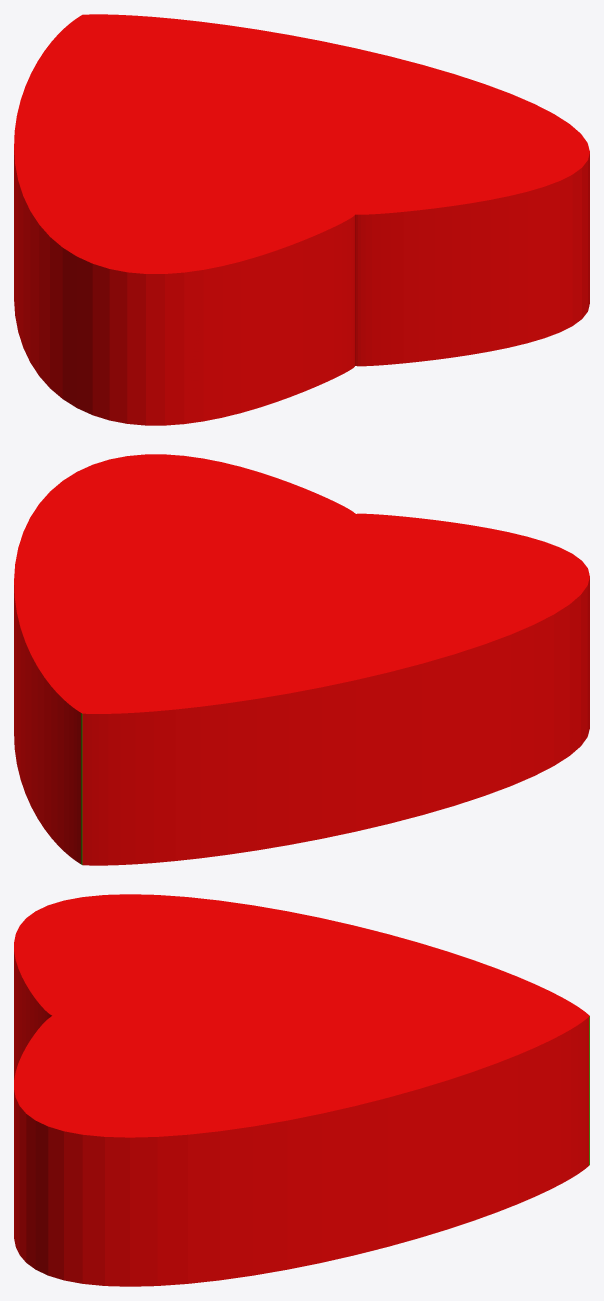
File: heart.dae
The picture shows the model from 3 angles, top to bottom: view 1: azimuth 30°, elevation 25°; view 2: azimuth 150°, elevation 25°; view 3: azimuth 270°, elevation 25°; orthographic projection.
Parts seen in each view (by area): view 1: Heart; view 2: Heart; view 3: Heart.
Part boxes in pixels (<box>): Heart: <box>14,14,589,425</box>; Heart: <box>14,454,589,865</box>; Heart: <box>14,894,589,1286</box>.
Size of the model in its own units: 0.07 by 0.07 by 0.02.
